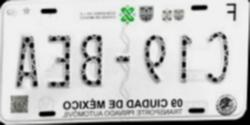License_Plate: (0, 0, 245, 122)
